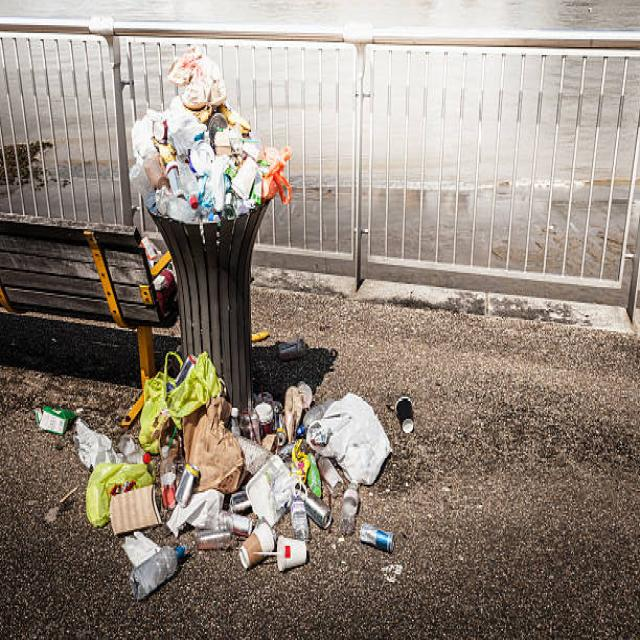trash: (85, 398, 395, 580), (133, 58, 272, 215)
